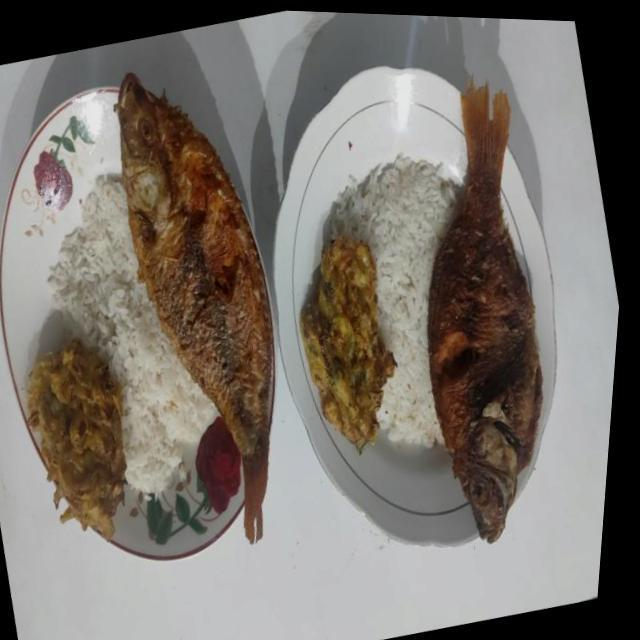ikan_mujair: (116, 73, 272, 542), (428, 79, 542, 542)
nasi_putih: (48, 174, 218, 493), (331, 153, 459, 446)
